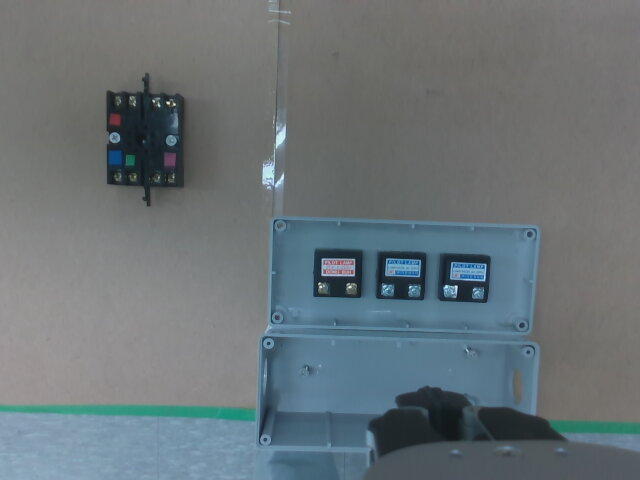L1(1): (317, 282, 330, 295)
L1(2): (344, 282, 357, 294)
L2(1): (381, 283, 394, 296)
L2(2): (408, 285, 421, 297)
L3(1): (443, 284, 458, 298)
L3(2): (472, 287, 485, 299)
